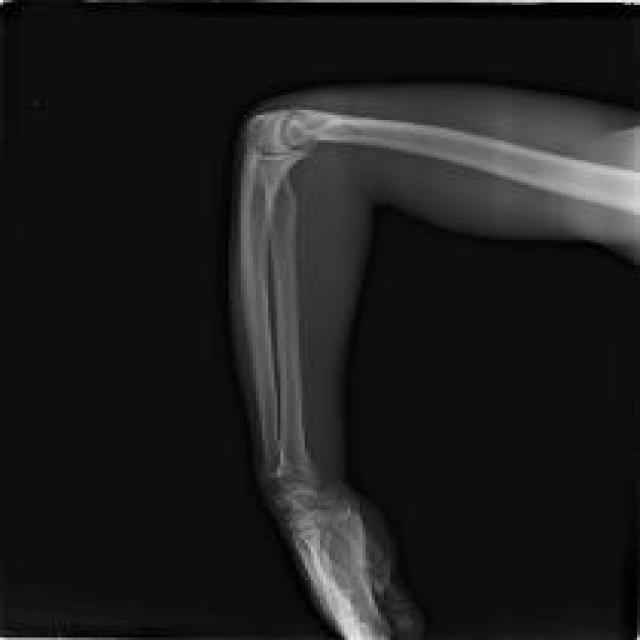normal: (237, 111, 640, 640)
